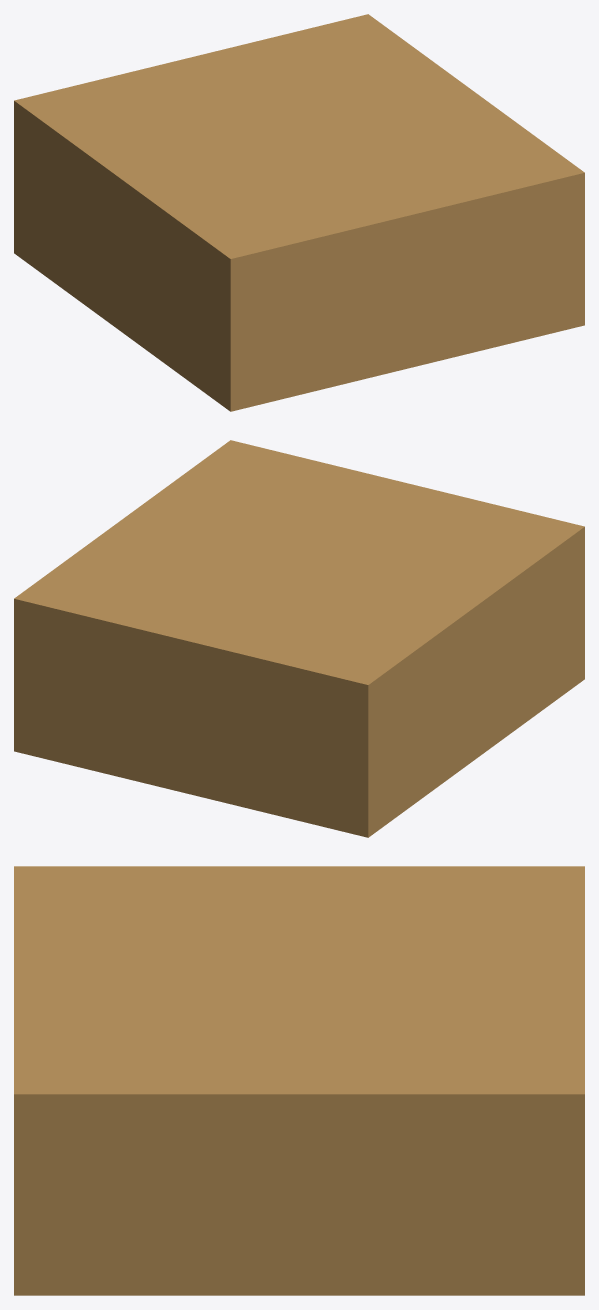
3 views of the same model, one above another, from view 1: azimuth 30°, elevation 25°; view 2: azimuth 150°, elevation 25°; view 3: azimuth 270°, elevation 25° (orthographic). The views are drawn at different scales.
Parts seen in each view (by area): view 1: RUN-089-S00-ribbon; view 2: RUN-089-S00-ribbon; view 3: RUN-089-S00-ribbon.
Part boxes in pixels (x1=…): RUN-089-S00-ribbon: x1=14, y1=14, x2=584, y2=411; RUN-089-S00-ribbon: x1=14, y1=440, x2=584, y2=837; RUN-089-S00-ribbon: x1=14, y1=866, x2=584, y2=1295.
Size of the model in its own units: 0.085 by 0.035 by 0.09.
